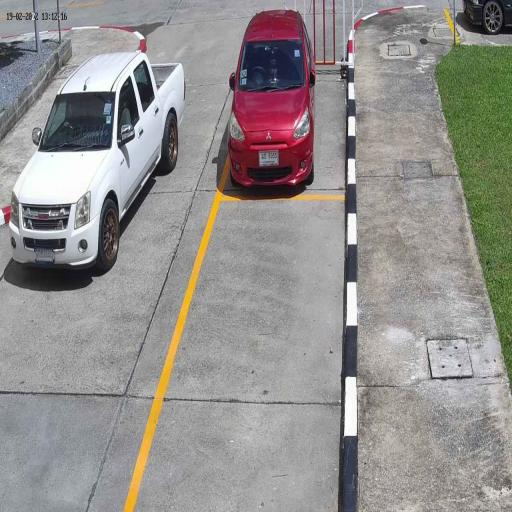car: (8, 54, 188, 270), (226, 7, 318, 192)
